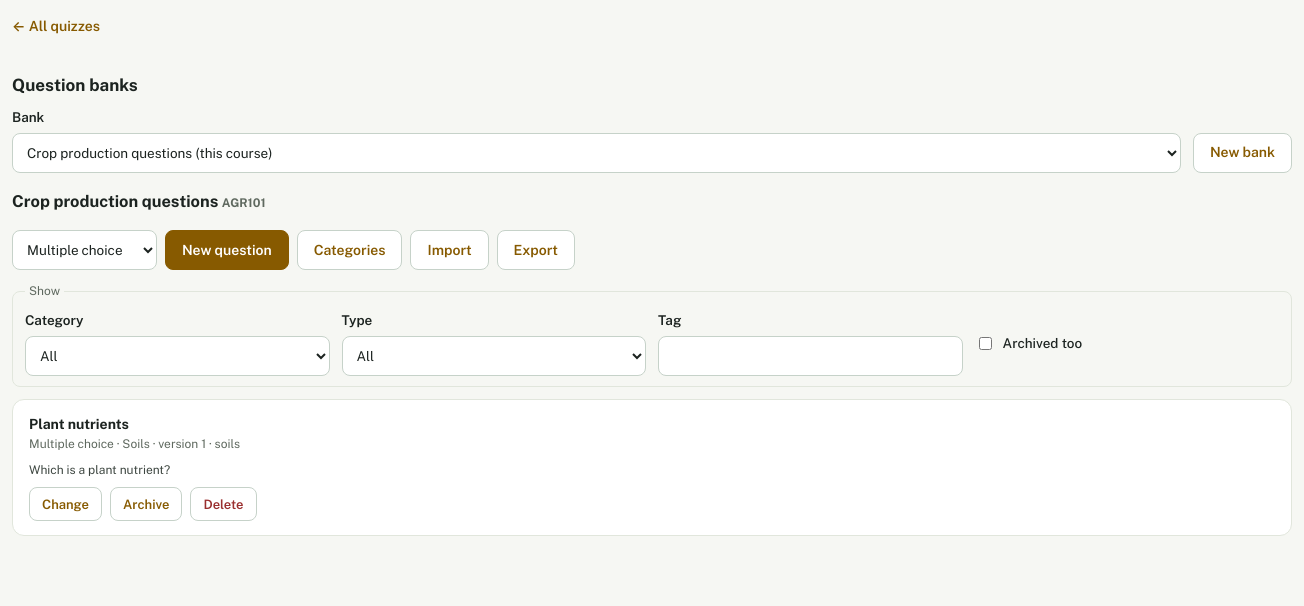
Test: question banks (item 3.01) › shows the course's bank with its questions, filters them and archives one
Expected: the text "Plant nutrients" is shown, 29,416 -> 129,432
Expected: the text "Multiple choice · Soils · version 1 · soils" is shown, 29,435 -> 240,453
Select "Clay" in the dropdown labelled "Category" at point(177, 356), box 25,336 -> 330,376
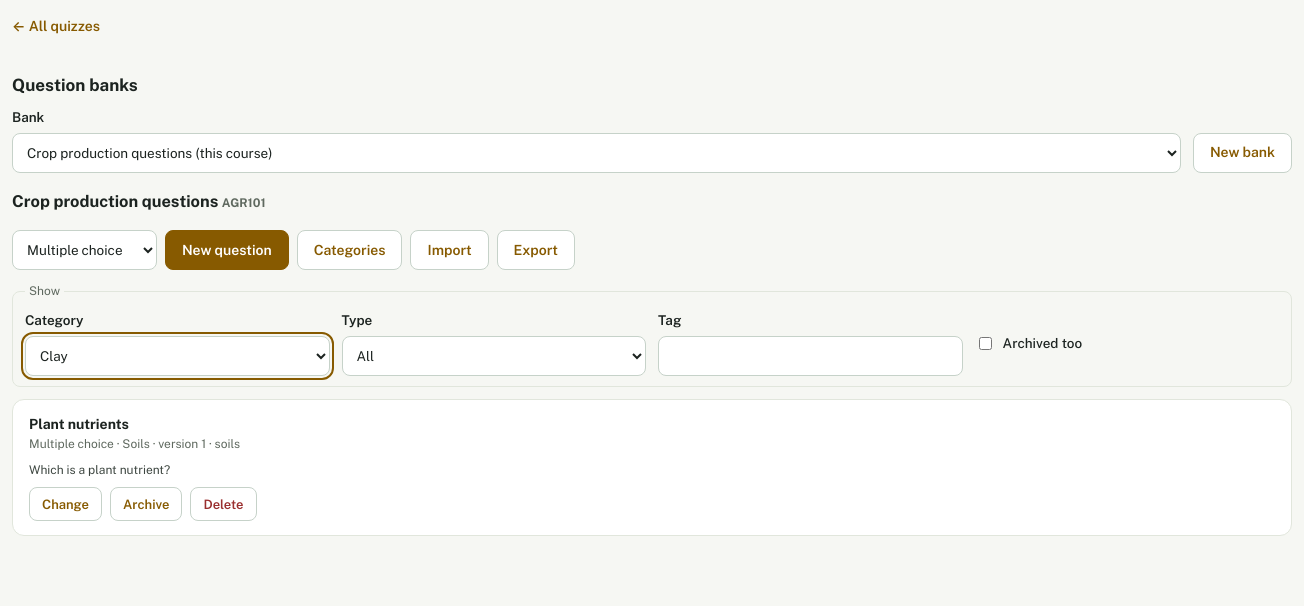
Type "clay" into the field labelled "Tag".
click(810, 356); type("clay")  # box 658,336 -> 962,376
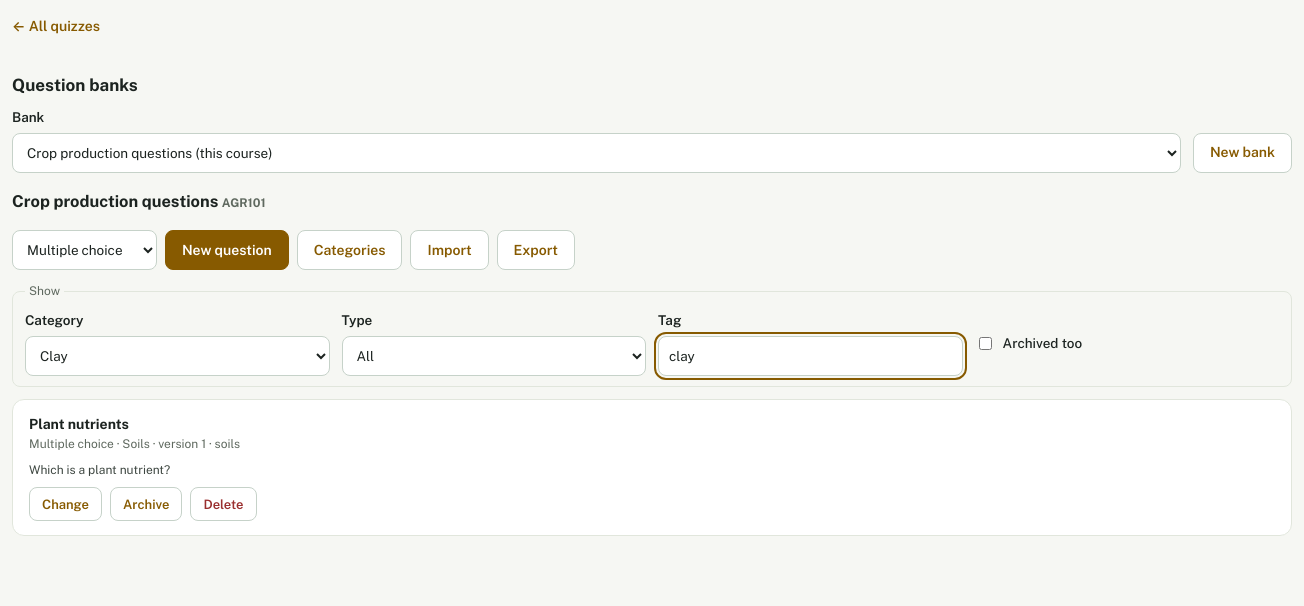
Click the checkbox labelled "Archived too".
click(985, 343)  # box 978,337 -> 992,350
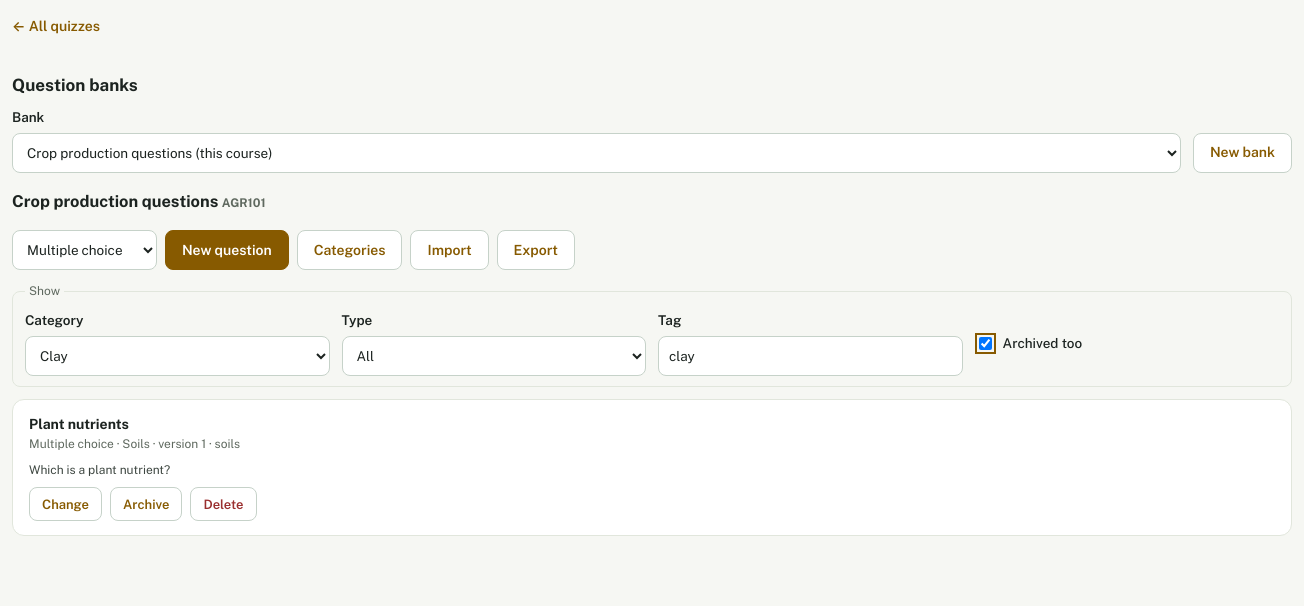
Click the button with aria-label "Archive “Plant nutrients”".
click(146, 504)  # box 110,487 -> 182,521
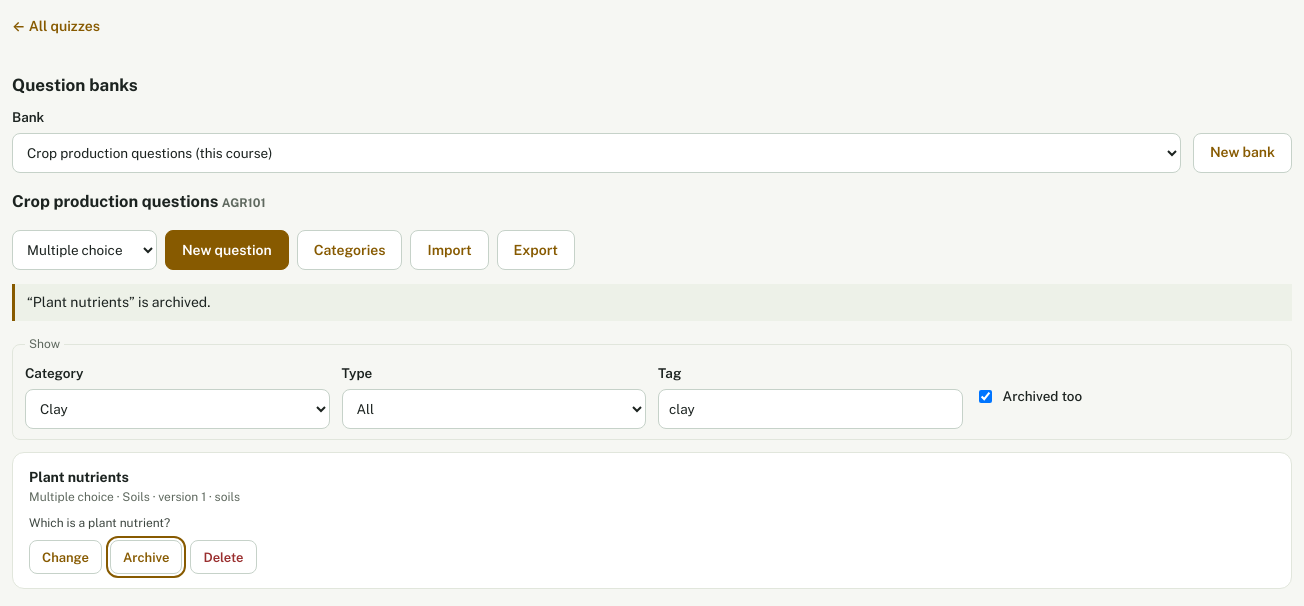
Result: the message reads "“Plant nutrients” is archived." at 27,294 -> 210,310
